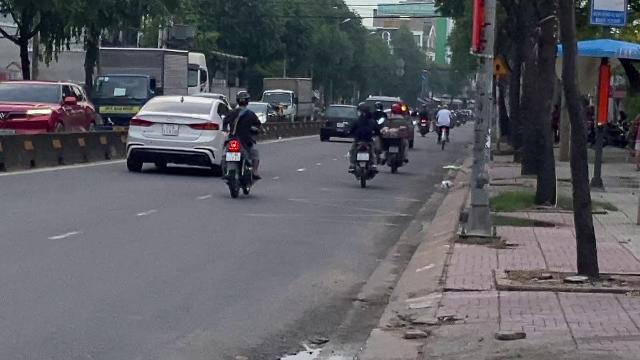helmet: (234, 90, 250, 106)
licenseplate: (226, 152, 240, 162)
motorcyclist: (220, 89, 264, 197)
